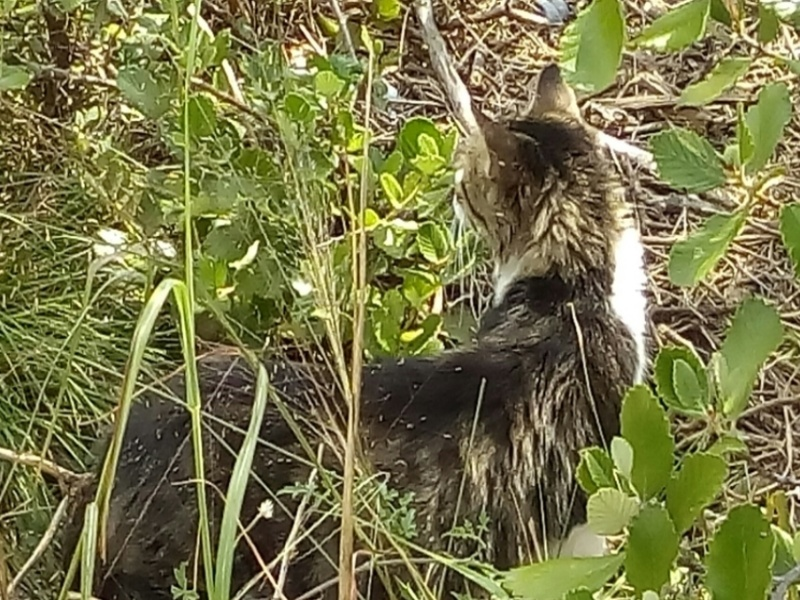cat: (79, 60, 650, 600)
